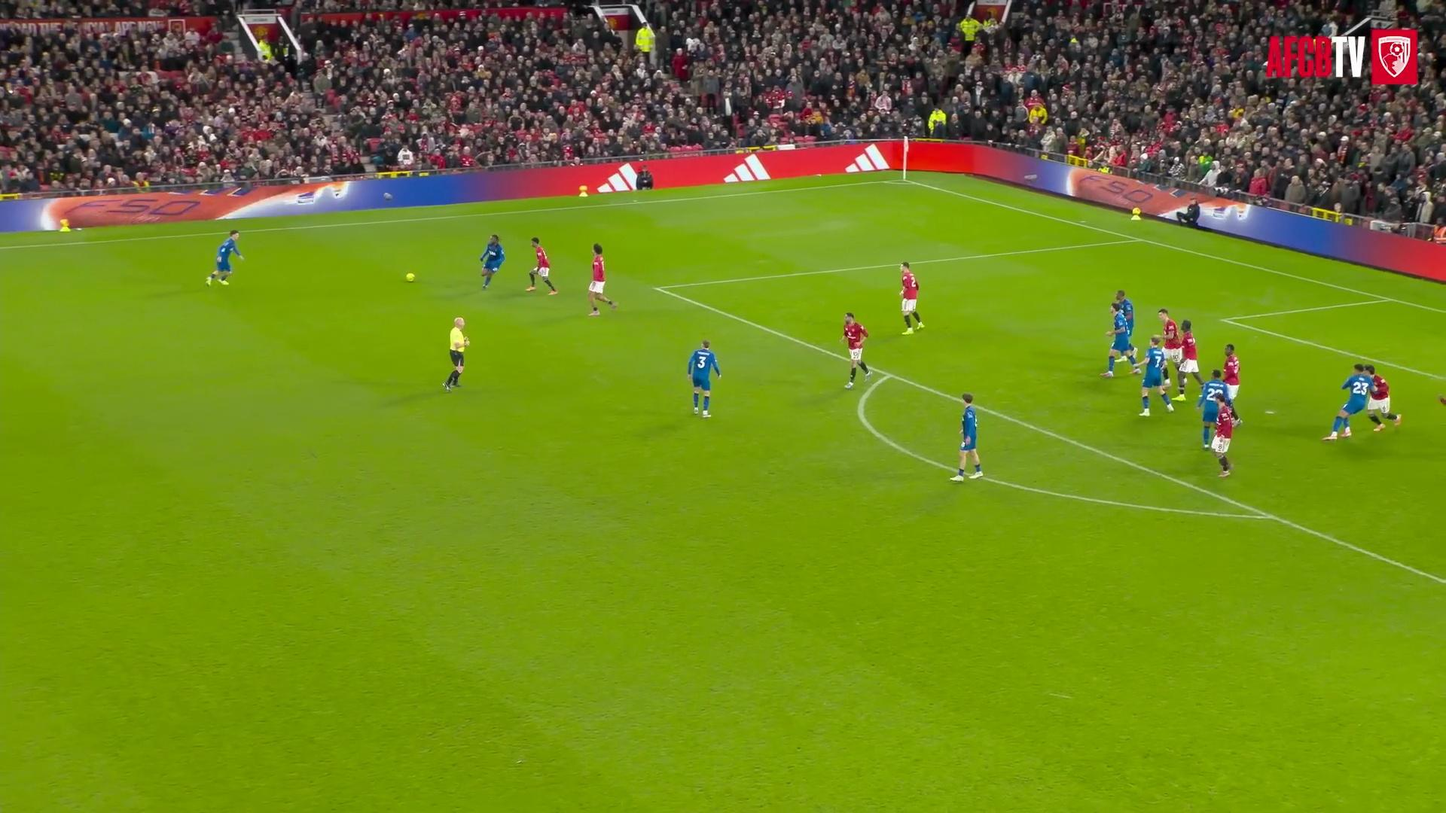football: (403, 269, 419, 286)
player: (1322, 364, 1371, 440), (950, 393, 983, 481), (1197, 370, 1232, 449), (1139, 336, 1173, 416), (1101, 302, 1136, 377), (688, 340, 721, 417), (1174, 319, 1204, 399), (1365, 365, 1401, 431), (840, 312, 870, 388), (1210, 393, 1236, 477), (588, 243, 617, 315), (206, 230, 243, 285), (526, 237, 557, 294), (900, 263, 923, 334), (1115, 289, 1136, 364), (1158, 309, 1182, 373), (1222, 346, 1242, 422), (480, 234, 505, 290), (1115, 289, 1134, 336)
referee: (444, 317, 470, 391)
